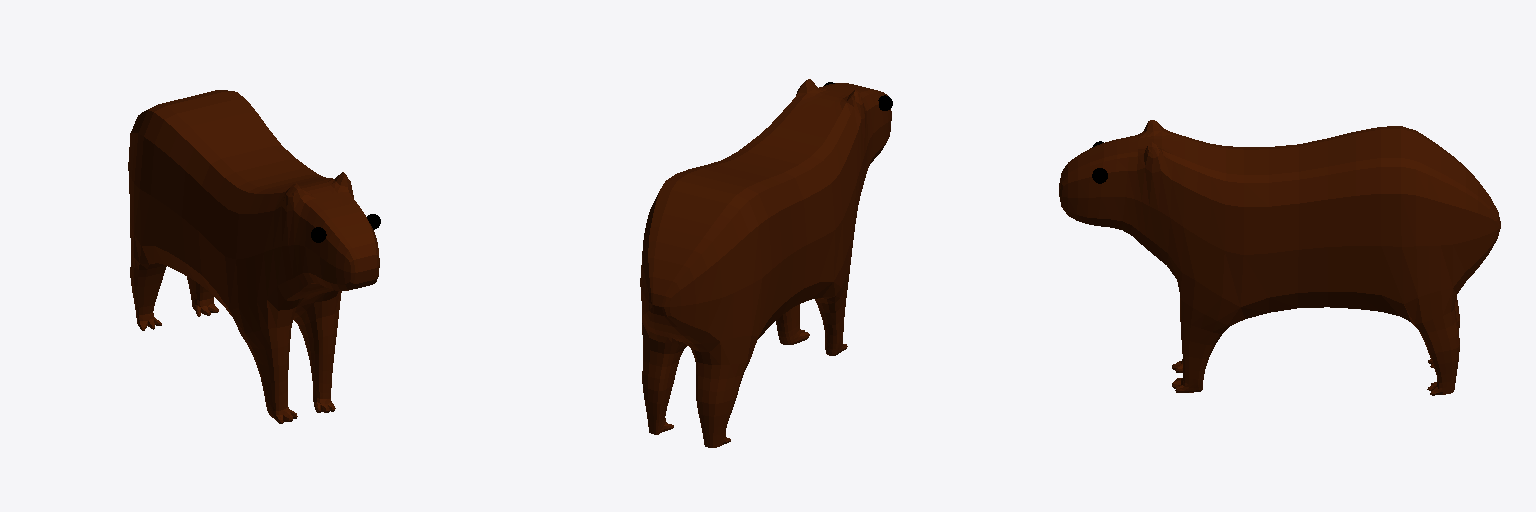
File: capy.obj
3 views of the same model, side by side, from view 1: azimuth 30°, elevation 25°; view 2: azimuth 150°, elevation 25°; view 3: azimuth 270°, elevation 25° (orthographic).
Parts seen in each view (by area): view 1: Body; view 2: Body; view 3: Body.
Part boxes in pixels (x1,y1,x2,y2): Body: (128, 90, 379, 423); Body: (640, 79, 891, 447); Body: (1059, 120, 1500, 395).
Bounding box in the file's own units: 1.3 × 2.8 × 4.49.